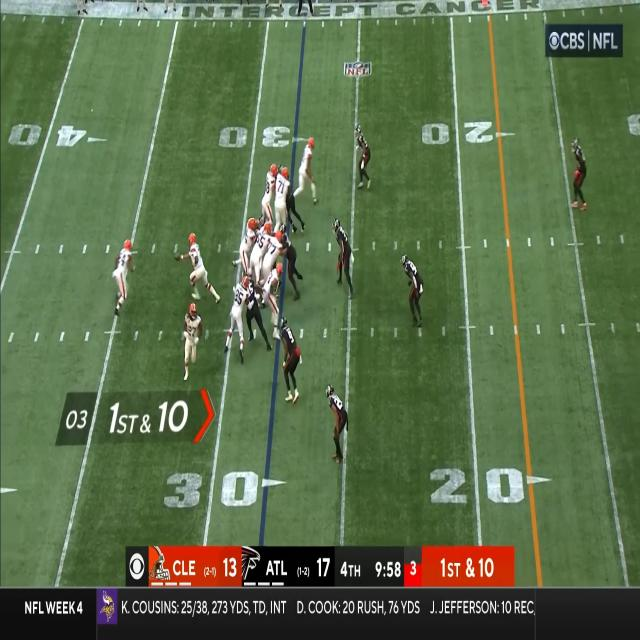football: (174, 253, 182, 263)
players: (241, 270, 273, 356), (183, 232, 220, 304), (224, 275, 251, 364), (278, 224, 303, 304), (262, 262, 287, 340), (278, 317, 300, 403), (332, 220, 356, 297), (113, 239, 136, 317), (293, 138, 320, 204), (400, 254, 424, 328), (326, 385, 348, 463), (246, 225, 274, 285), (181, 306, 203, 381), (569, 139, 587, 211), (259, 232, 283, 284), (273, 166, 291, 234), (261, 163, 280, 226), (353, 126, 371, 191), (240, 217, 256, 282)
